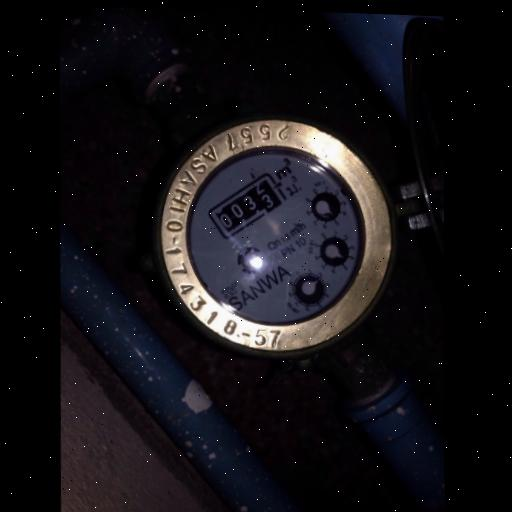0: (225, 197, 251, 226), (213, 206, 239, 234)
2: (250, 177, 284, 214)
3: (238, 189, 264, 218)
border_water_meter_number: (204, 167, 291, 246)
